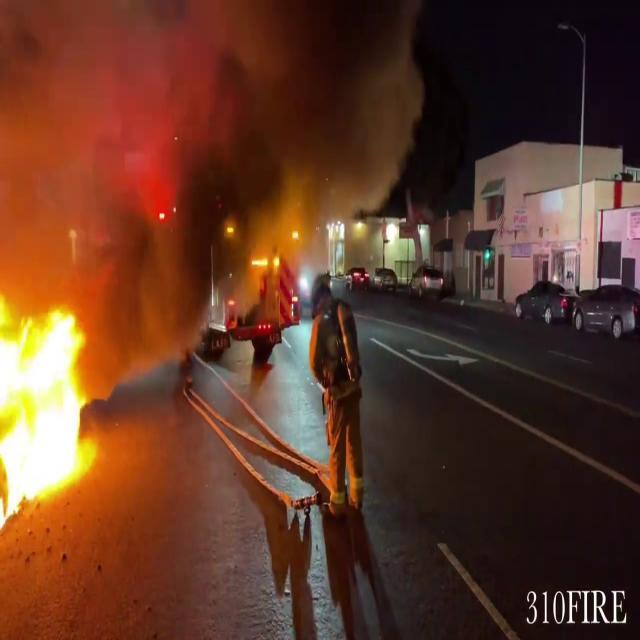Fire: (0, 290, 102, 524)
Smoke: (0, 0, 424, 287)
